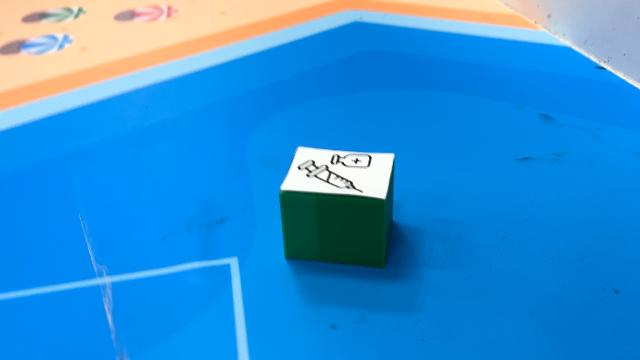syringe: (280, 146, 396, 270)
